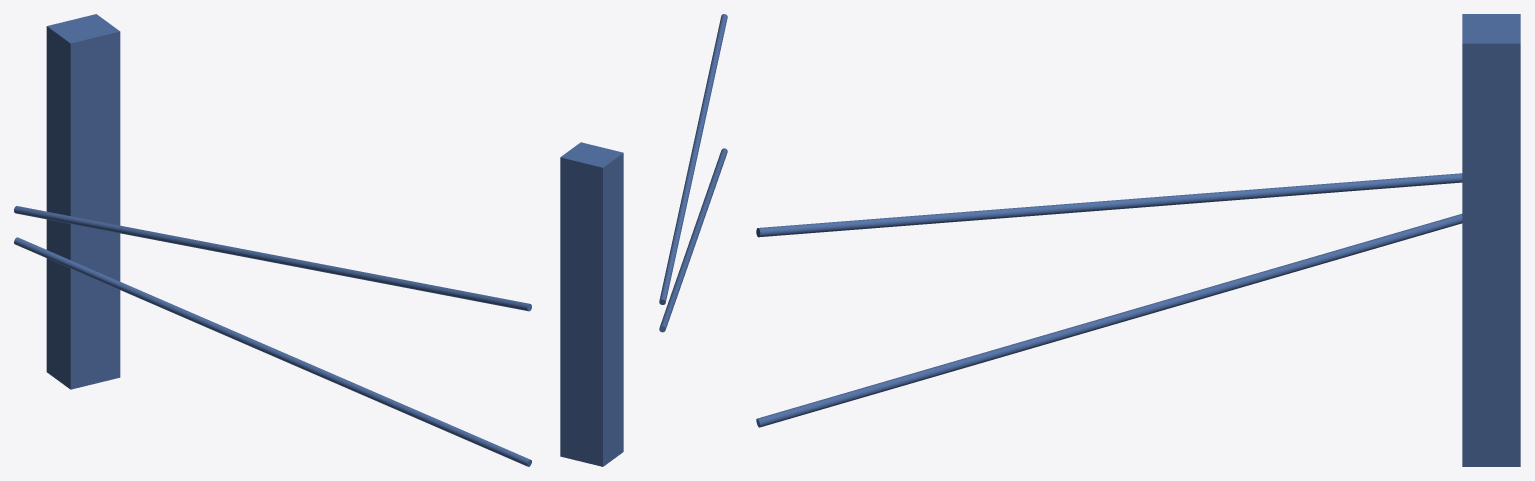
File: HARN.glb
3 renders of one model, left to right at view 1: azimuth 30°, elevation 25°; view 2: azimuth 150°, elevation 25°; view 3: azimuth 270°, elevation 25°, orthographic. The views are drawn at different scales.
Parts seen in each view (by area): view 1: geometry_0; view 2: geometry_0; view 3: geometry_0.
Part boxes in pixels (box(x1,y1,x2,y2)): geometry_0: box(14, 14, 531, 466); geometry_0: box(560, 14, 727, 466); geometry_0: box(756, 14, 1520, 466).
Bounding box in the file's own units: 274 × 400 × 654.
